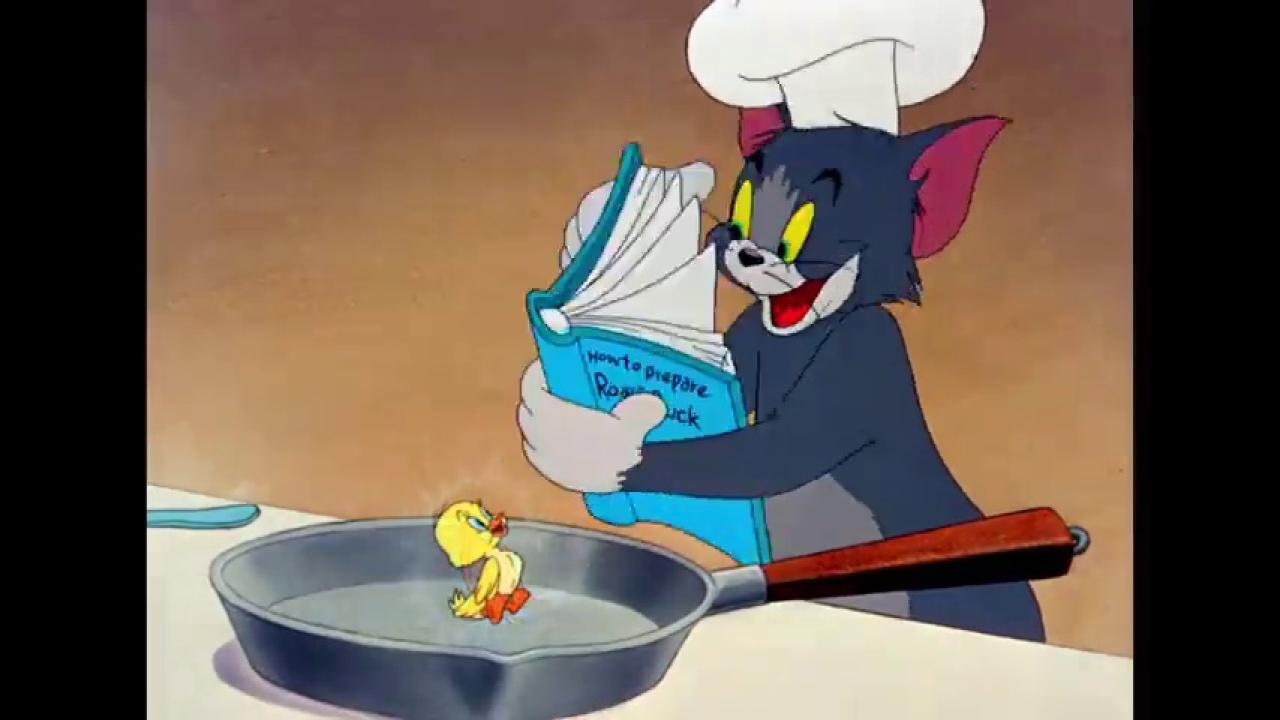Tom: (516, 111, 1047, 646)
